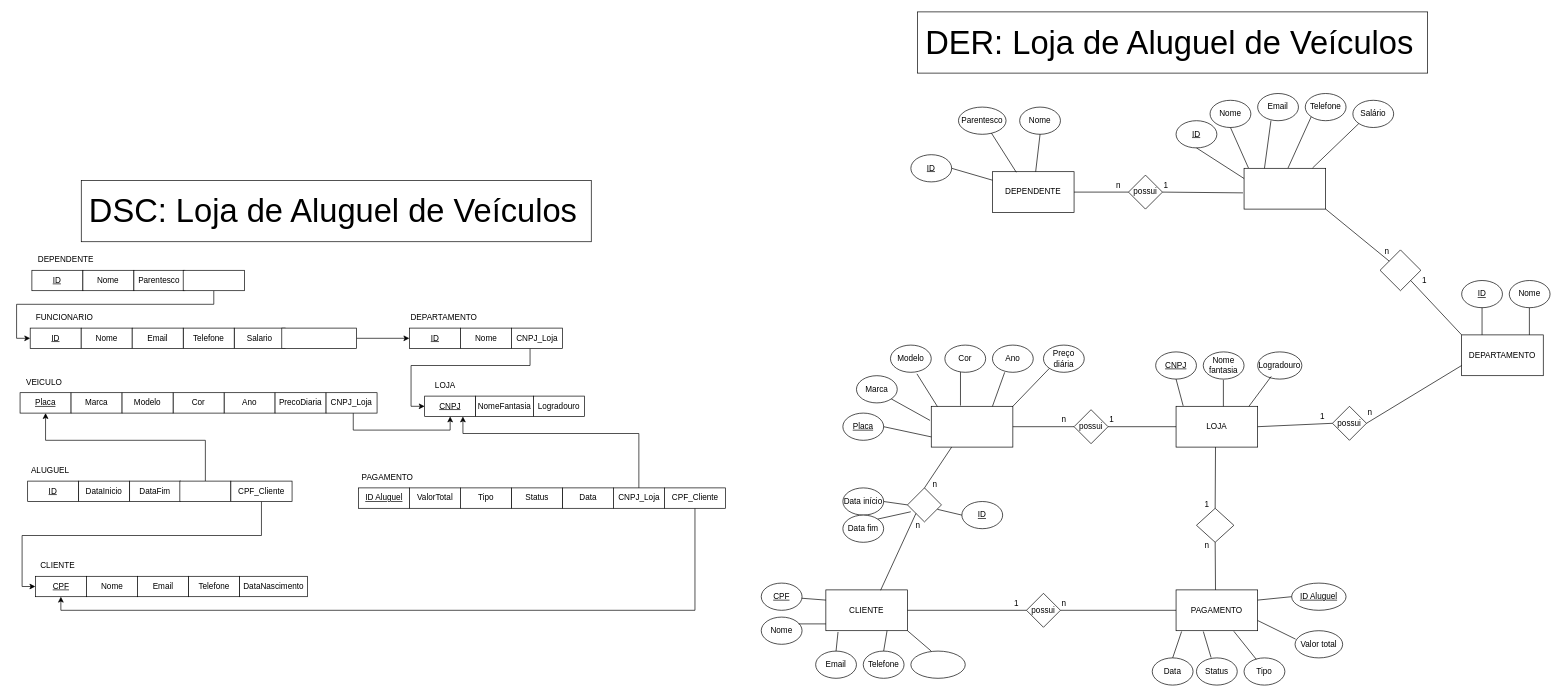
This 1563x697 diagram has some shape labels left out. The shapes that lost their labels are listed below. From the top down, each one's box as (x1, y1, x2, y2) in pixels, then its label:
(1243, 168, 1326, 209): FUNCIONÁRIO
(183, 270, 244, 291): ID_Funcionario
(1379, 249, 1421, 291): trabalha
(281, 327, 357, 348): ID_Departamento
(931, 406, 1013, 447): VEÍCULO
(179, 480, 231, 502): PlacaVeiculo
(907, 487, 941, 522): aluga
(1196, 508, 1234, 542): gerencia
(910, 650, 965, 678): Data nascimento
